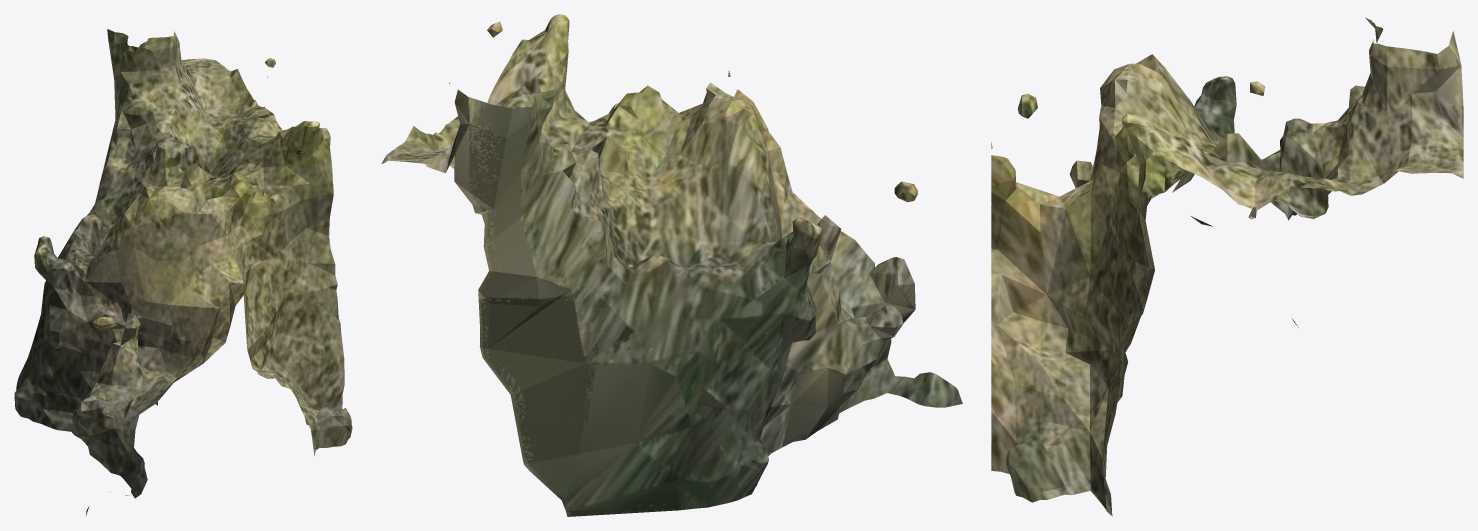
3 views of the same model, side by side, from view 1: azimuth 30°, elevation 25°; view 2: azimuth 150°, elevation 25°; view 3: azimuth 270°, elevation 25° (orthographic). The views are drawn at different scales.
Size of the model in its own units: 5.82 by 5.9 by 5.9.
5 materials, 5 textured.
